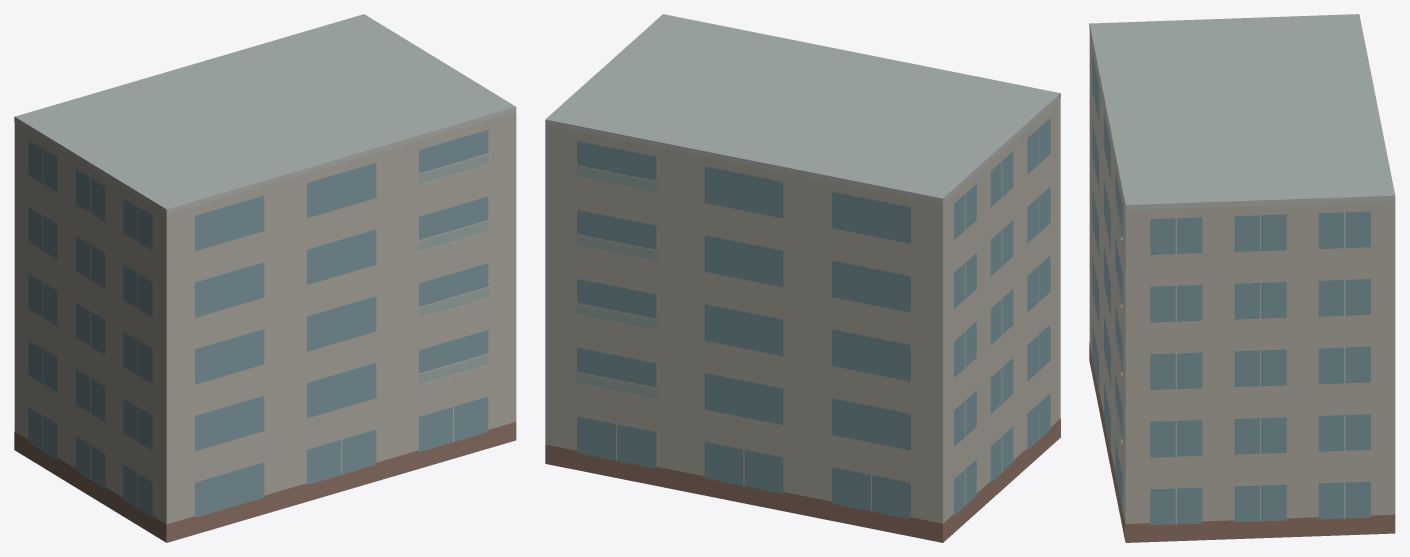
Rendered from survey-upis-32759015.glb.
3 renders of one model, left to right at view 1: azimuth 30°, elevation 25°; view 2: azimuth 150°, elevation 25°; view 3: azimuth 270°, elevation 25°, orthographic. The views are drawn at different scales.
Visible parts, largest first — view 1: survey-upis-32759015.tmp; view 2: survey-upis-32759015.tmp; view 3: survey-upis-32759015.tmp.
Boxes of the visible parts, bbox=[...] form: survey-upis-32759015.tmp: bbox=[14, 14, 516, 542]; survey-upis-32759015.tmp: bbox=[545, 14, 1060, 542]; survey-upis-32759015.tmp: bbox=[1089, 14, 1395, 542].
Bounding box in the file's own units: 18.51 × 15.25 × 12.52.
